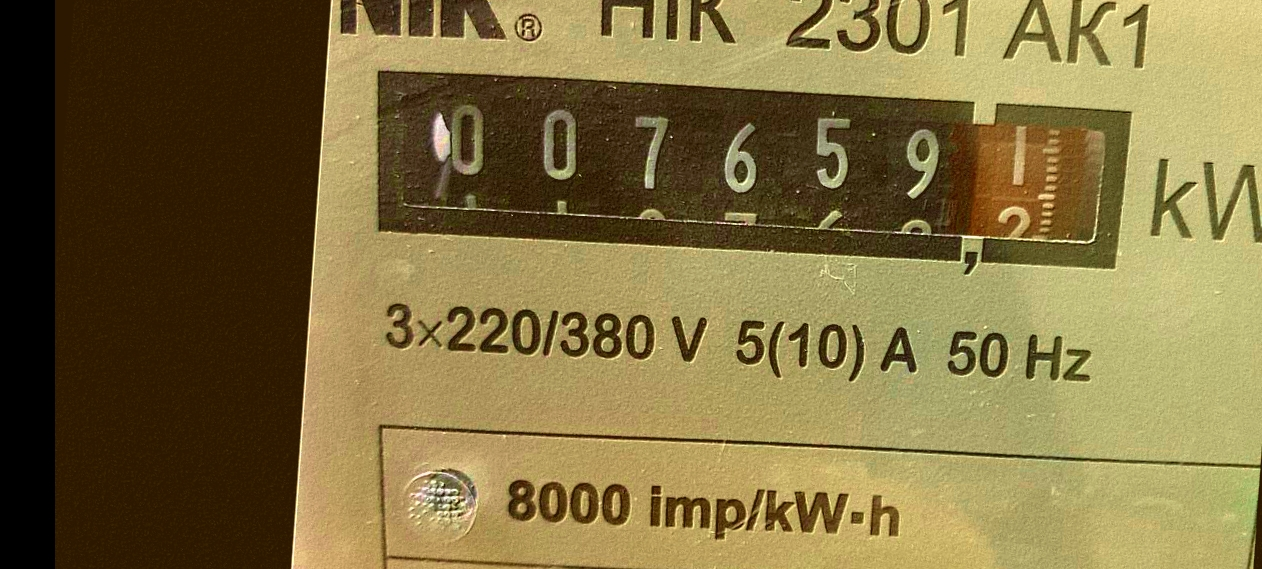0: (528, 98, 590, 188), (440, 93, 496, 186)
1: (1003, 117, 1042, 195)
5: (806, 110, 858, 195)
6: (713, 112, 770, 199)
7: (626, 108, 674, 196)
9: (899, 119, 947, 210)
screen: (347, 36, 1154, 305)
